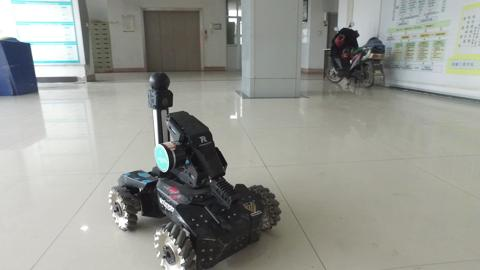chariot: (95, 65, 291, 270)
